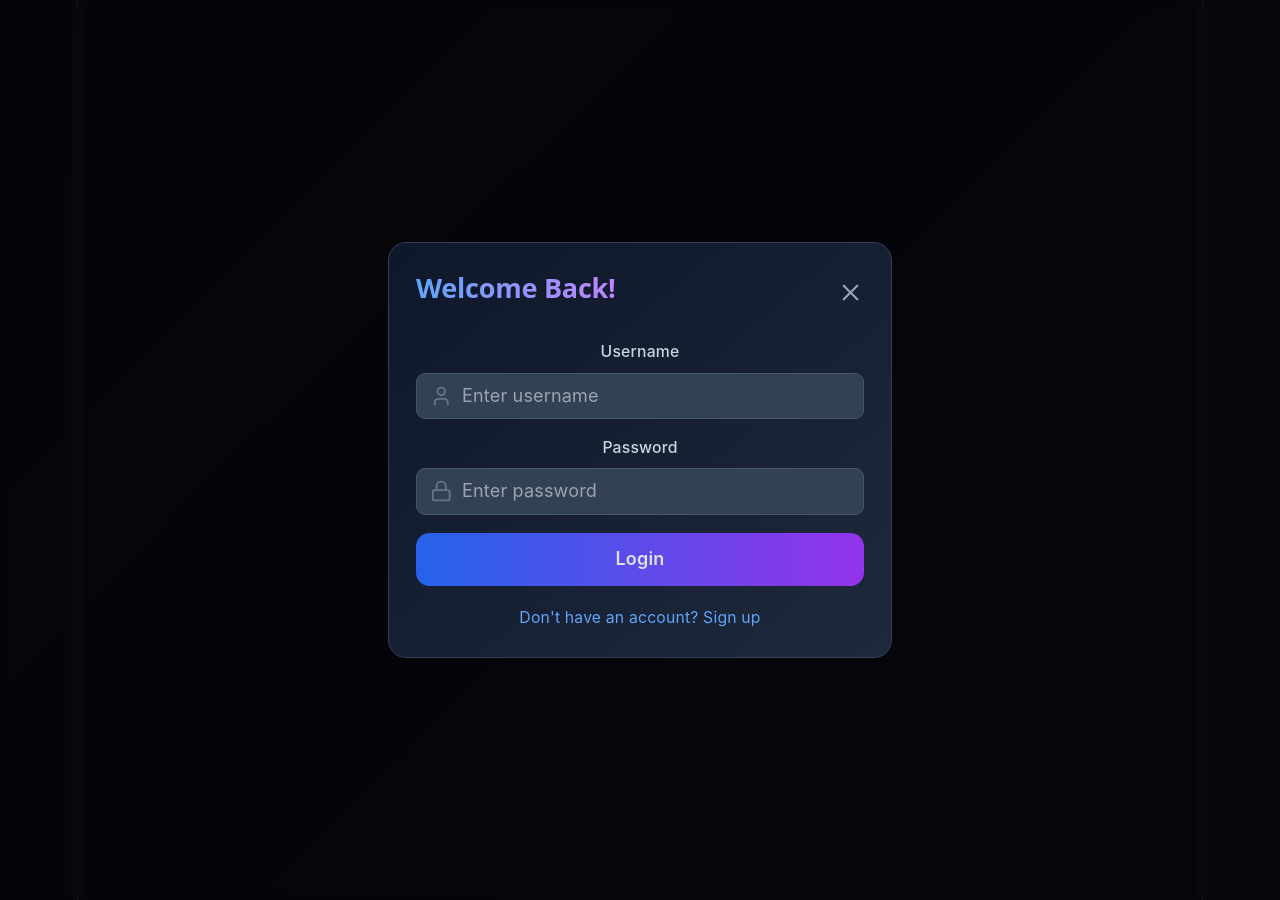
Test: AuthModal › Form interactions › should switch between login and registration modes
This screenshot has width=1280, height=900.
Expected: the heading "Welcome Back!" is shown, [416, 270, 616, 306]
Note: Switch to registration
Click the button "Don't have an account? Sign up" at coordinates (640, 618), box [519, 607, 761, 629]
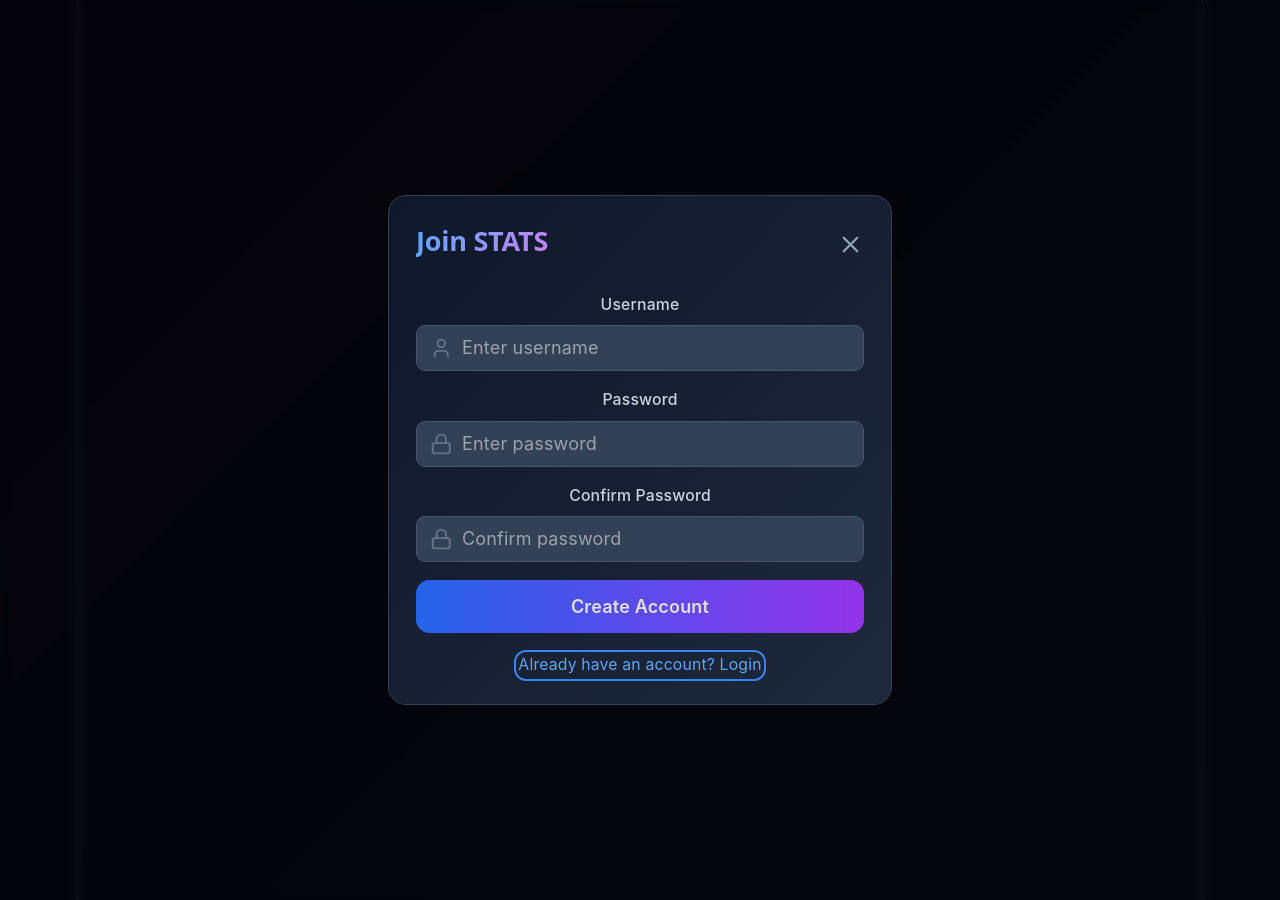
Expected: the heading "Join STATS" is shown, [416, 222, 548, 258]
Note: Switch back to login
Click the button "Already have an account? Login" at coordinates (640, 666), box [518, 654, 762, 677]
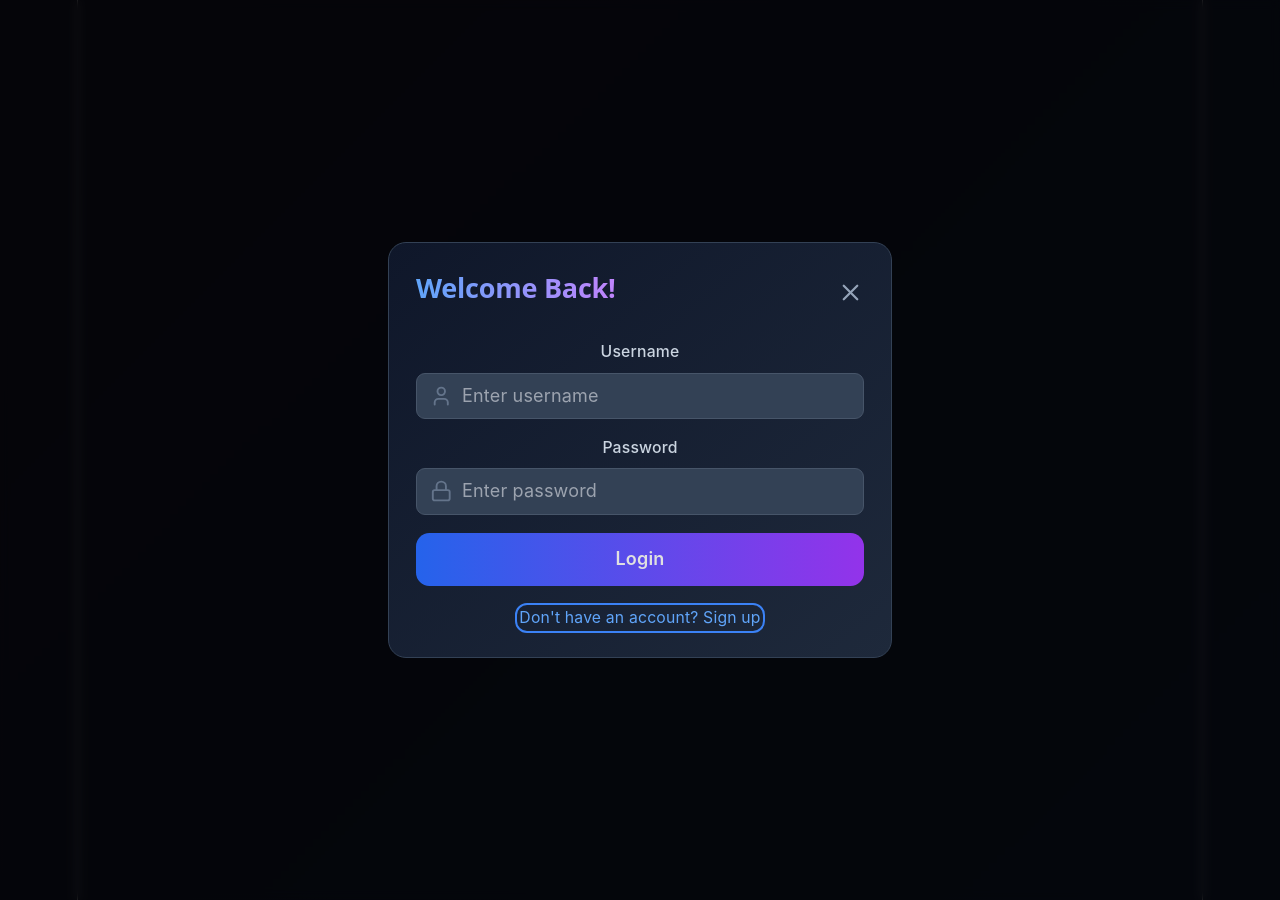
Expected: the heading "Welcome Back!" is shown, [416, 270, 616, 306]
